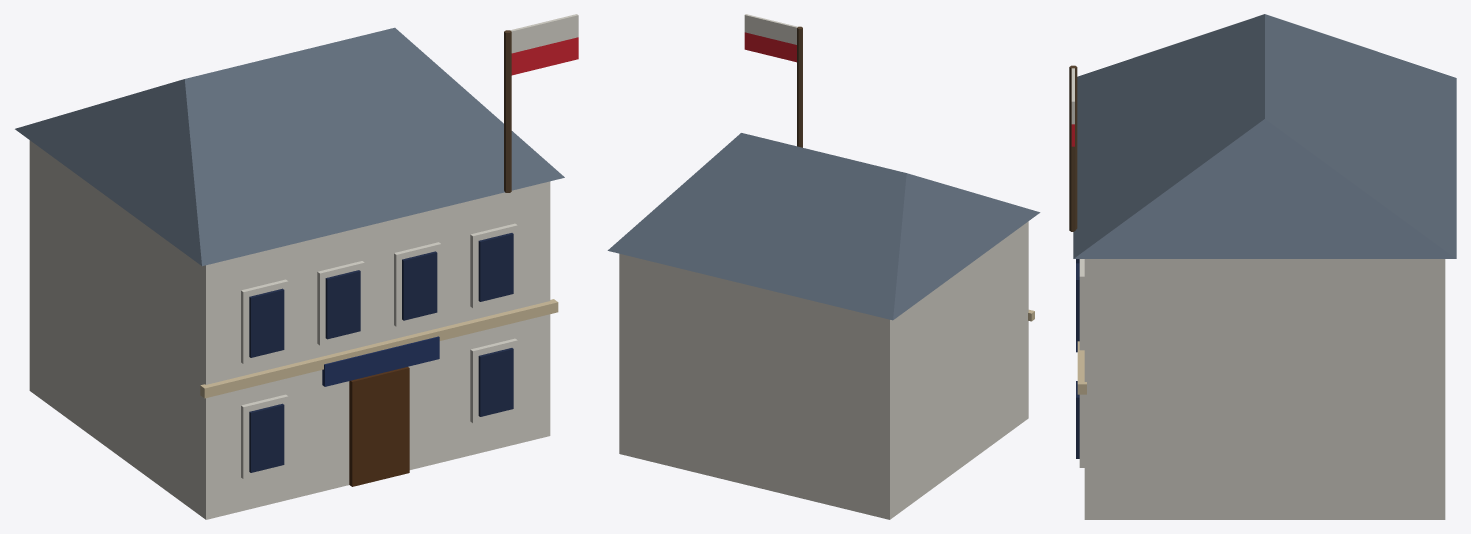
The model's file is biuro.glb.
The picture shows the model from 3 angles, left to right: view 1: azimuth 30°, elevation 25°; view 2: azimuth 150°, elevation 25°; view 3: azimuth 270°, elevation 25°; orthographic projection. The views are drawn at different scales.
Visible parts, largest first — view 1: biuro; view 2: biuro; view 3: biuro.
Boxes of the visible parts, x1,y1,x2,y2 form: biuro: [15, 14, 578, 519]; biuro: [607, 14, 1040, 519]; biuro: [1069, 14, 1456, 519].
Bounding box in the file's own units: 3.93 × 4.2 × 3.44.
